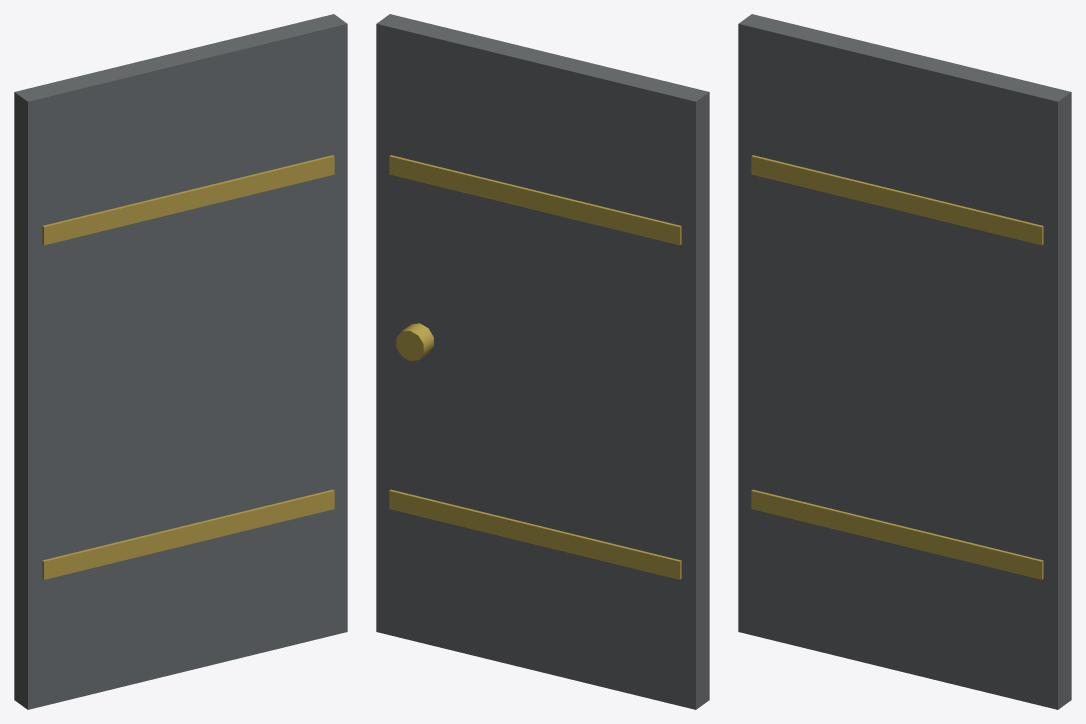
File: door.glb
The picture shows the model from 3 angles, left to right: view 1: azimuth 30°, elevation 25°; view 2: azimuth 150°, elevation 25°; view 3: azimuth 330°, elevation 25°; orthographic projection.
Visible parts, largest first — view 1: #6a6e70, #b9a24a; view 2: #6a6e70, #b9a24a, #b9a24a metal 0.8 rough 0.3; view 3: #6a6e70, #b9a24a.
Boxes of the visible parts, <box> form: #6a6e70: <box>14,14,347,709</box>; #b9a24a: <box>42,155,334,579</box>; #6a6e70: <box>376,14,709,709</box>; #b9a24a: <box>389,155,681,579</box>; #b9a24a metal 0.8 rough 0.3: <box>396,323,433,360</box>; #6a6e70: <box>738,14,1071,709</box>; #b9a24a: <box>751,155,1043,579</box>.
Size of the model in its own units: 1.1 by 2 by 0.15.
